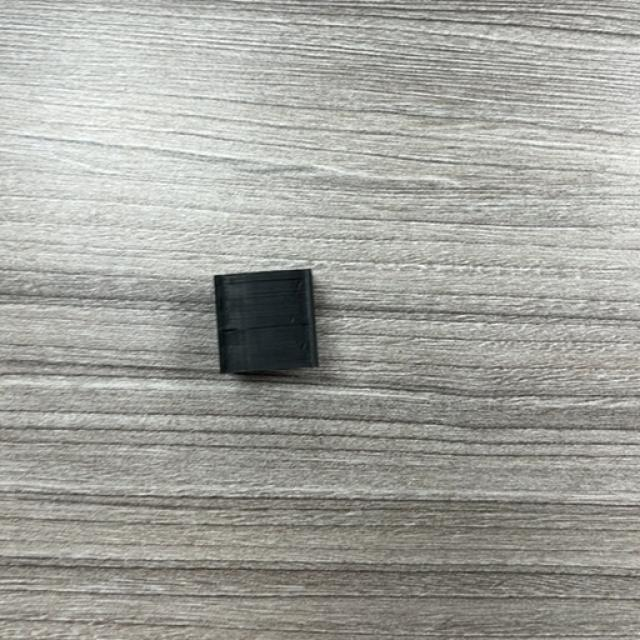Negro: (215, 269, 319, 376)
